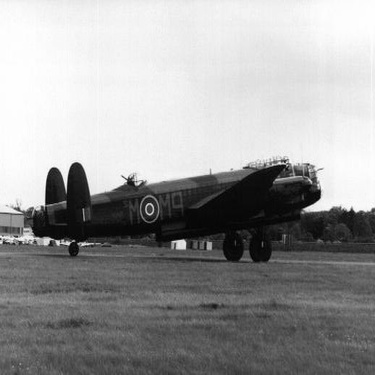airplane: (14, 135, 339, 263)
